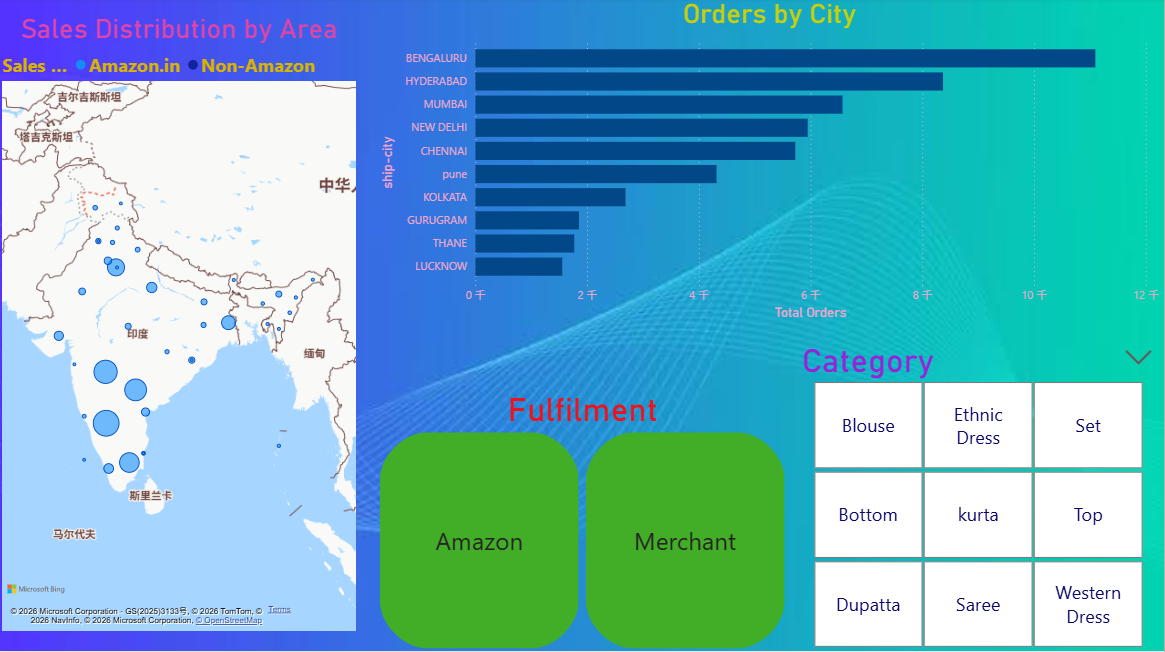

The dashboard page shown, as its layout file describes it:
{"tool":"powerbi","page":{"name":"Area & Sale Channel","canvas":[1280,720],"ordinal":1},"visuals":[{"type":"map","title":"Sales Distribution by Area","fields":{"Series":["FactSales.Sales Channel"],"Category":["DimArea.ship-state"],"Size":["FactSales.Total Sales"]},"box":[0,16.5,397.9,684.7],"z":0},{"type":"advancedSlicerVisual","fields":{"Values":["DimShipping.Fulfilment"]},"box":[414.4,432.2,455.6,288.2],"z":1000},{"type":"clusteredBarChart","title":"Orders by City","fields":{"Category":["DimArea.ship-city"],"Y":["FactSales.Total Orders"]},"box":[414.4,0,865.9,359.5],"z":2000},{"type":"slicer","fields":{"Values":["DimProduct.Category"]},"box":[870,373.2,410.3,347.2],"z":3000}]}

Visuals, with their boxes in screenshot pixels (x1, y1, x2, y2), scaled from the page's 1280x720 canvas onto the 1165x652 screenshot:
"Sales Distribution by Area" map: rect(0, 15, 362, 635)
advancedSlicerVisual - DimShipping.Fulfilment: rect(377, 391, 792, 651)
"Orders by City" clusteredBarChart: rect(377, 0, 1164, 326)
slicer - DimProduct.Category: rect(792, 338, 1164, 651)
